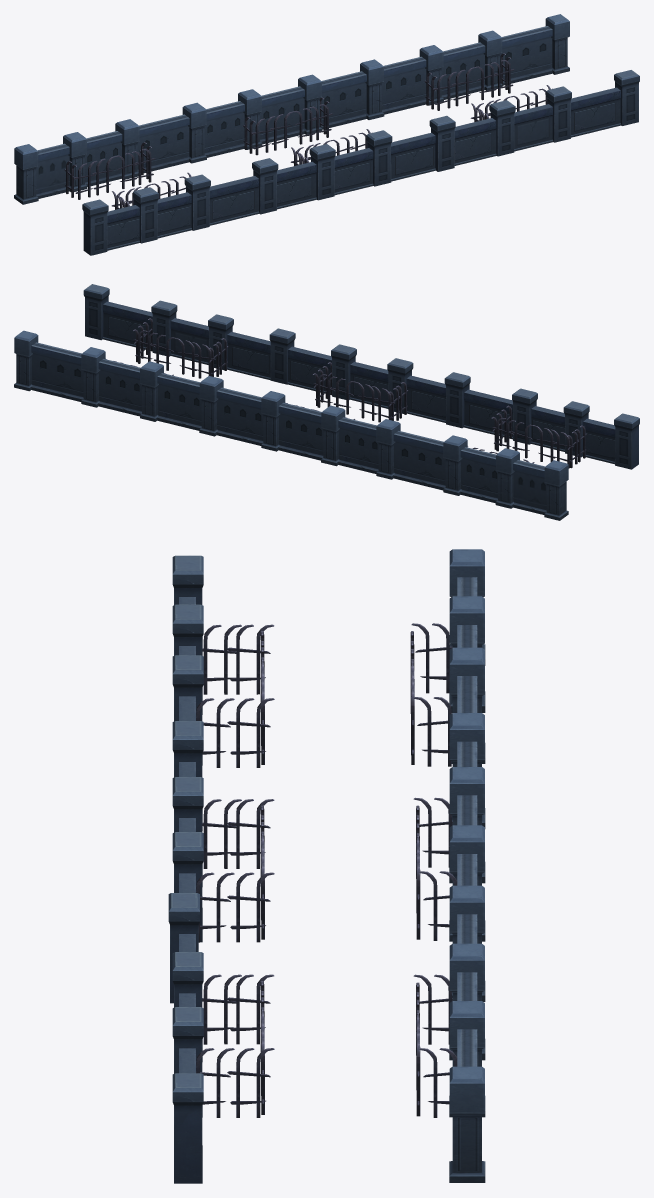
File: Area_07_1.fbx
3 renders of one model, top to bottom at view 1: azimuth 30°, elevation 25°; view 2: azimuth 150°, elevation 25°; view 3: azimuth 270°, elevation 25°, orthographic. The views are drawn at different scales.
Visible parts, largest first — view 1: Area_07_1; view 2: Area_07_1; view 3: Area_07_1.
Boxes of the visible parts, x1,y1,x2,y2 form: Area_07_1: [14, 14, 639, 255]; Area_07_1: [14, 284, 639, 520]; Area_07_1: [168, 549, 485, 1183].
Bounding box in the file's own units: 7762 × 701 × 1939.
